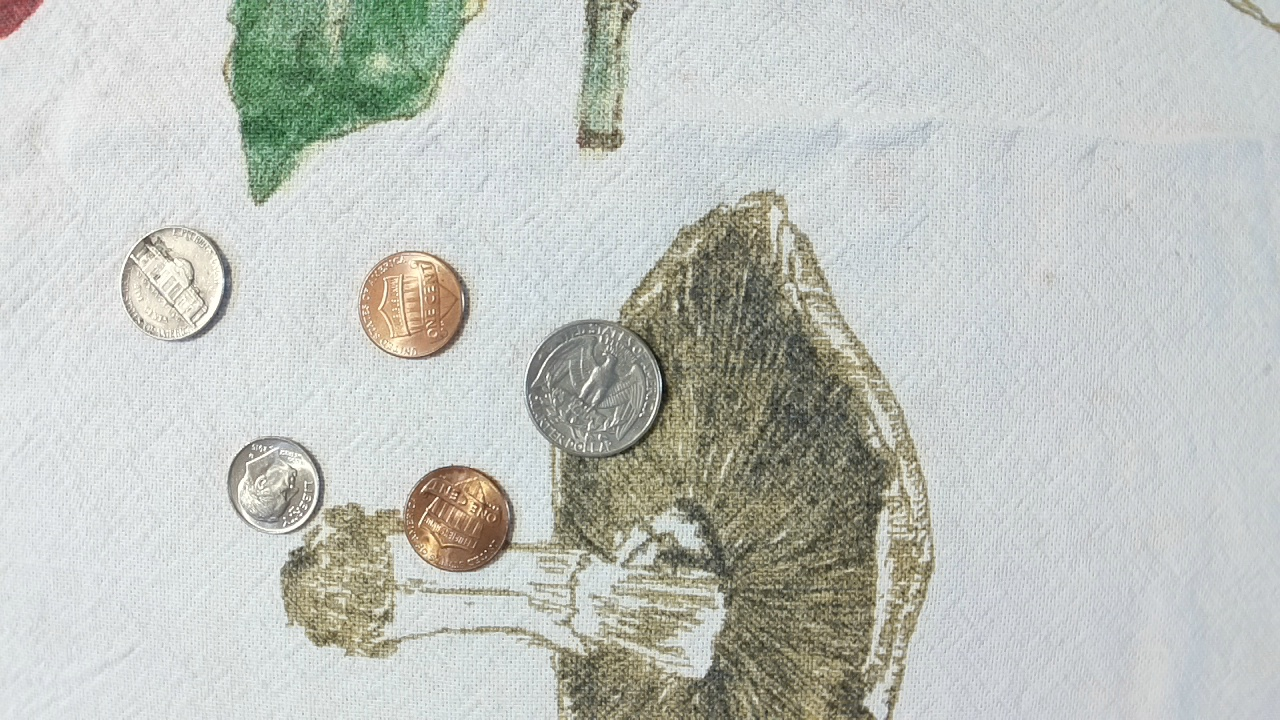dime: (222, 432, 326, 538)
nickel: (106, 221, 240, 349)
penny: (354, 246, 472, 362), (402, 462, 514, 574)
quarter: (524, 316, 664, 462)
